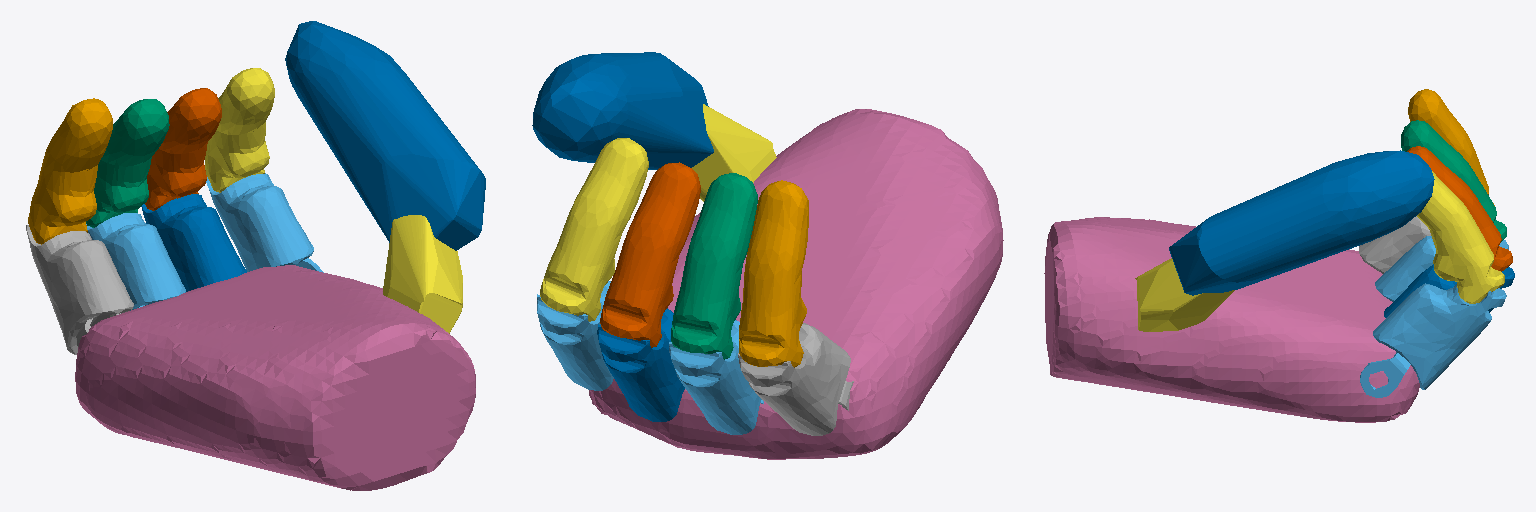
URDF robot description (hand):
<?xml version="1.0"?>
<robot name="hand">
  <joint name="base_link" type="fixed">
    <origin xyz="0. 0. 0." rpy="0. 0. 0."/>
    <parent link="ability_hand"/>
    <child link="connector_plate"/>
  </joint>
  <joint name="connector_plate_joint" type="fixed">
    <origin xyz="0. 0.035 0.02 " rpy="-1.5707964 0. 0. "/>
    <parent link="connector_plate"/>
    <child link="wrist_connector"/>
  </joint>
  <joint name="index_q1" type="revolute">
    <origin xyz="0.0289775 0.0409529 -0.0256247" rpy="2.8641052 0.0198338 -0.1568503"/>
    <parent link="wrist_connector"/>
    <child link="index_L1"/>
    <axis xyz="1. 0. 0."/>
    <limit lower="0.1000074" upper="1.8675023" effort="5." velocity="8.0677775"/>
  </joint>
  <joint name="index_q2" type="revolute">
    <origin xyz="0. 0.0032577 -0.0384727" rpy="0.8080874 0. 0. "/>
    <parent link="index_L1"/>
    <child link="index_L2"/>
    <axis xyz="1. 0. 0."/>
    <limit lower="0." upper="2.2165682" effort="0." velocity="8.0677775"/>
		<mimic joint = "index_q1" multiplier =  "1.05851325" offset = "0"/>
  </joint>
  <joint name="middle_q1" type="revolute">
    <origin xyz="0.0095579 0.0439545 -0.022537 " rpy="2.8685586 -0.0177729 -0.0780471"/>
    <parent link="wrist_connector"/>
    <child link="middle_L1"/>
    <axis xyz="1. 0. 0."/>
    <limit lower="0.1399754" upper="1.868375" effort="5." velocity="8.0677775"/>
  </joint>
  <joint name="middle_q2" type="revolute">
    <origin xyz="0. 0.0032577 -0.0384727" rpy="0.8080874 0. 0. "/>
    <parent link="middle_L1"/>
    <child link="middle_L2"/>
    <axis xyz="1. 0. 0."/>
    <limit lower="0." upper="2.2165682" effort="5." velocity="8.0677775"/>
		<mimic joint = "middle_q1" multiplier =  "1.05851325" offset = "0"/>
  </joint>
  <joint name="palm_fixed" type="fixed">
    <origin xyz="0.024752 0.0264443 -0.0888265" rpy="3.1162112 -0.0908633 -0.0312166"/>
    <parent link="wrist_connector"/>
    <child link="palm"/>
  </joint>
  <joint name="pinky_q1" type="revolute">
    <origin xyz="-0.029837 0.0407557 -0.0308493" rpy="2.863189 -0.0403512 0.0684035"/>
    <parent link="wrist_connector"/>
    <child link="pinky_L1"/>
    <axis xyz="1. 0. 0."/>
    <limit lower="0.1302016" upper="1.6587609" effort="5." velocity="8.0677775"/>
  </joint>
  <joint name="pinky_q2" type="revolute">
    <origin xyz="0. 0.0032577 -0.0384727" rpy="0.8080874 0. 0. "/>
    <parent link="pinky_L1"/>
    <child link="pinky_L2"/>
    <axis xyz="1. 0. 0."/>
    <limit lower="0." upper="2.2165682" effort="5." velocity="8.0677775"/>
		<mimic joint = "pinky_q1" multiplier =  "1.05851325" offset = "0"/>
  </joint>
  <joint name="ring_q1" type="revolute">
    <origin xyz="-0.0106353 0.0434727 -0.0249167" rpy="2.8661923 -0.0540403 0.0041775"/>
    <parent link="wrist_connector"/>
    <child link="ring_L1"/>
    <axis xyz="1. 0. 0."/>
    <limit lower="0.0951204" upper="1.8675023" effort="5." velocity="8.0677775"/>
  </joint>
  <joint name="ring_q2" type="revolute">
    <origin xyz="0. 0.0032577 -0.0384727" rpy="0.8080874 0. 0. "/>
    <parent link="ring_L1"/>
    <child link="ring_L2"/>
    <axis xyz="1. 0. 0."/>
    <limit lower="0." upper="2.2165682" effort="5." velocity="8.0677775"/>
		<mimic joint = "ring_q1" multiplier =  "1.05851325" offset = "0"/>
  </joint>
  <joint name="thumb_q1" type="revolute">
    <origin xyz="0.024752 0.0264443 -0.0888264" rpy="-0.4604883 1.4764616 -0.3040145"/>
    <parent link="wrist_connector"/>
    <child link="thumb_L1"/>
    <axis xyz="1. 0. 0."/>
    <limit lower="0.1596976" upper="1.9198622" effort="5." velocity="17453.2925199"/>
  </joint>
  <joint name="thumb_q2" type="revolute">
    <origin xyz="-0.0147507 0. 0.0278284" rpy="-3.1415927 0. -1.3089969"/>
    <parent link="thumb_L1"/>
    <child link="thumb_L2"/>
    <axis xyz="1. 0. 0."/>
    <limit lower="0.0506145" upper="1.569051" effort="5." velocity="8.0677775"/>
  </joint>
  <link name="ability_hand"/>
  <link name="index_L1">
    <inertial>
      <origin xyz="0. 0. 0." rpy="0. 0. 0."/>
      <mass value="0.0063589"/>
      <inertia ixx="0." ixy="0." ixz="0." iyy="0." iyz="0." izz="0."/>
    </inertial>


    <visual>
      <origin xyz="0. 0.0032577 -0.0384727" rpy="1.5707964 1.4863216 1.5707964"/>
      <geometry>
        <mesh filename="urdf_meshes/index_L1_visuals_index_mesh_1.obj" scale="1. 1. 1."/>
      </geometry>
    </visual>

    <collision>
      <origin xyz="0. 0.0032577 -0.0384727" rpy="1.5707964 1.4863216 1.5707964"/>
      <geometry>
        <mesh filename="urdf_meshes/index_L1_collisions_mesh_0.obj" scale="1. 1. 1."/>
      </geometry>
    </collision>
  </link>
  <link name="connector_plate">
    <inertial>
      <origin xyz="0. 0. 0." rpy="0. 0. 0."/>
      <mass value="0.05"/>
      <inertia ixx="0." ixy="0." ixz="0." iyy="0." iyz="0." izz="0."/>
    </inertial>
  </link>
  <link name="index_L2">
    <inertial>
      <origin xyz="0. 0. 0." rpy="0. 0. 0."/>
      <mass value="0.00645"/>
      <inertia ixx="0." ixy="0." ixz="0." iyy="0." iyz="0." izz="0."/>
    </inertial>
    <visual>
      <origin xyz="0. 0. -0.0091241" rpy="0. 1.5707963 0. "/>
      <geometry>
        <mesh filename="urdf_meshes/index_L2_visuals_index_mesh_2.obj" scale="1. 1. 1."/>
      </geometry>
    </visual>

    <collision>
      <origin xyz="0. 0. -0.0091241" rpy="0. 1.5707963 0. "/>
      <geometry>
        <mesh filename="urdf_meshes/index_L2_collisions_mesh_0.obj" scale="1. 1. 1."/>
      </geometry>
    </collision>
  </link>
  <link name="middle_L1">
    <inertial>
      <origin xyz="0. 0. 0." rpy="0. 0. 0."/>
      <mass value="0.0063589"/>
      <inertia ixx="0." ixy="0." ixz="0." iyy="0." iyz="0." izz="0."/>
    </inertial>

    <visual>
      <origin xyz="0. 0.0032577 -0.0384727" rpy="1.5707964 1.4863216 1.5707964"/>
      <geometry>
        <mesh filename="urdf_meshes/index_L1_visuals_index_mesh_1.obj" scale="1. 1. 1."/>
      </geometry>
    </visual>
    
    <collision>
      <origin xyz="0. 0.0032577 -0.0384727" rpy="1.5707964 1.4863216 1.5707964"/>
      <geometry>
        <mesh filename="urdf_meshes/index_L1_collisions_mesh_0.obj" scale="1. 1. 1."/>
      </geometry>
    </collision>
  </link>
  <link name="middle_L2">
    <inertial>
      <origin xyz="0. 0. 0." rpy="0. 0. 0."/>
      <mass value="0.00645"/>
      <inertia ixx="0." ixy="0." ixz="0." iyy="0." iyz="0." izz="0."/>
    </inertial>

    <visual>
      <origin xyz="0. 0. -0.0091241" rpy="0. 1.5707963 0. "/>
      <geometry>
        <mesh filename="urdf_meshes/index_L2_visuals_index_mesh_2.obj" scale="1. 1. 1."/>
      </geometry>
    </visual>

    <collision>
      <origin xyz="0. 0. -0.0091241" rpy="0. 1.5707963 0. "/>
      <geometry>
        <mesh filename="urdf_meshes/index_L2_collisions_mesh_0.obj" scale="1. 1. 1."/>
      </geometry>
    </collision>
  </link>

  <link name="palm">
    <inertial>
      <origin xyz="0. 0. 0." rpy="0. 0. 0."/>
      <mass value="0.000001"/>
      <inertia ixx="0." ixy="0." ixz="0." iyy="0." iyz="0." izz="0."/>
    </inertial>

    <visual>
      <origin xyz="0. -0. 0." rpy="-0. 0.0578587 -0. "/>
      <geometry>
        <mesh filename="urdf_meshes/palm_collisions_mesh_0.obj" scale="1. 1. 1."/>
      </geometry>
    </visual>

    <collision>
      <origin xyz="0. -0. 0." rpy="-0. 0.0578587 -0. "/>
      <geometry>
        <mesh filename="urdf_meshes/palm_collisions_mesh_0.obj" scale="1. 1. 1."/>
      </geometry>
    </collision>
  </link>

  <link name="pinky_L1">
    <inertial>
      <origin xyz="0. 0. 0." rpy="0. 0. 0."/>
      <mass value="0.0063589"/>
      <inertia ixx="0." ixy="0." ixz="0." iyy="0." iyz="0." izz="0."/>
    </inertial>

    <visual>
      <origin xyz="0. 0.0032577 -0.0384727" rpy="1.5707964 1.4863216 1.5707964"/>
      <geometry>
        <mesh filename="urdf_meshes/index_L1_visuals_index_mesh_1.obj" scale="1. 1. 1."/>
      </geometry>
    </visual>

    <collision>
      <origin xyz="0. 0.0032577 -0.0384727" rpy="1.5707964 1.4863216 1.5707964"/>
      <geometry>
        <mesh filename="urdf_meshes/index_L1_collisions_mesh_0.obj" scale="1. 1. 1."/>
      </geometry>
    </collision>
  </link>
  <link name="pinky_L2">
    <inertial>
      <origin xyz="0. 0. 0." rpy="0. 0. 0."/>
      <mass value="0.00645"/>
      <inertia ixx="0." ixy="0." ixz="0." iyy="0." iyz="0." izz="0."/>
    </inertial>

    <visual>
      <origin xyz="0. 0. -0.0091241" rpy="0. 1.5707963 0. "/>
      <geometry>
        <mesh filename="urdf_meshes/index_L2_visuals_index_mesh_2.obj" scale="1. 1. 1."/>
      </geometry>
    </visual>

    <collision>
      <origin xyz="0. 0. -0.0091241" rpy="0. 1.5707963 0. "/>
      <geometry>
        <mesh filename="urdf_meshes/index_L2_collisions_mesh_0.obj" scale="1. 1. 1."/>
      </geometry>
    </collision>
  </link>
  <link name="ring_L1">
    <inertial>
      <origin xyz="0. 0. 0." rpy="0. 0. 0."/>
      <mass value="0.0063589"/>
      <inertia ixx="0." ixy="0." ixz="0." iyy="0." iyz="0." izz="0."/>
    </inertial>

    <visual>
      <origin xyz="0. 0.0032577 -0.0384727" rpy="1.5707964 1.4863216 1.5707964"/>
      <geometry>
        <mesh filename="urdf_meshes/index_L1_visuals_index_mesh_1.obj" scale="1. 1. 1."/>
      </geometry>
    </visual>

    <collision>
      <origin xyz="0. 0.0032577 -0.0384727" rpy="1.5707964 1.4863216 1.5707964"/>
      <geometry>
        <mesh filename="urdf_meshes/index_L1_collisions_mesh_0.obj" scale="1. 1. 1."/>
      </geometry>
    </collision>
  </link>
  <link name="ring_L2">
    <inertial>
      <origin xyz="0. 0. 0." rpy="0. 0. 0."/>
      <mass value="0.00645"/>
      <inertia ixx="0." ixy="0." ixz="0." iyy="0." iyz="0." izz="0."/>
    </inertial>

    <visual>
      <origin xyz="0. 0. -0.0091241" rpy="0. 1.5707963 0. "/>
      <geometry>
        <mesh filename="urdf_meshes/index_L2_visuals_index_mesh_2.obj" scale="1. 1. 1."/>
      </geometry>
    </visual>

    <collision>
      <origin xyz="0. 0. -0.0091241" rpy="0. 1.5707963 0. "/>
      <geometry>
        <mesh filename="urdf_meshes/index_L2_collisions_mesh_0.obj" scale="1. 1. 1."/>
      </geometry>
    </collision>
  </link>
  <link name="thumb_L1">
    <inertial>
      <origin xyz="0. 0. 0." rpy="0. 0. 0."/>
      <mass value="0.0026834"/>
      <inertia ixx="0." ixy="0." ixz="0." iyy="0." iyz="0." izz="0."/>
    </inertial>

    <visual>
      <origin xyz="-0.0147507 0. 0.0278284" rpy="1.8325957 -1.5707964 0. "/>
      <geometry>
        <mesh filename="urdf_meshes/thumb_mesh_1.obj" scale="1. 1. 1."/>
      </geometry>
    </visual>


    <collision>
      
      <origin xyz="-0.0147507 0. 0.0278284" rpy="1.8325957 -1.5707964 0. "/>
      <geometry>
        <mesh filename="urdf_meshes/thumb_L1_collision.obj" scale="1. 1. 1."/>
      </geometry>

    </collision>
  </link>

  
  <link name="thumb_L2">
    <inertial>
      <origin xyz="0. 0. 0." rpy="0. 0. 0."/>
      <mass value="0.0055"/>
      <inertia ixx="0." ixy="0." ixz="0." iyy="0." iyz="0." izz="0."/>
    </inertial>

    <visual>
      <origin xyz="0.0039348 0.0233402 -0.0651867" rpy="-1.5707957 1.2269664 1.5707964"/>
      <geometry>
        <mesh filename="urdf_meshes/thumb_mesh_2.obj" scale="1. 1. 1."/>
      </geometry>
    </visual>
    
    <collision>
      <origin xyz="0.0039348 0.0233402 -0.0651867" rpy="-1.5707957 1.2269664 1.5707964"/>
      <geometry>
        <mesh filename="urdf_meshes/thumb_L2_collisions_mesh_0.obj" scale="1. 1. 1."/>
      </geometry>
    </collision>
  </link>

  <link name = "index_tip">
  </link>
  <joint name="index_tip_joint" type="fixed">
    <origin xyz="0. -0.015 -0.035" rpy="0. 0. 0."/>
    <parent link="index_L2"/>
    <child link="index_tip"/>
  </joint>
  <link name="middle_tip">
  </link>
  <joint name="middle_tip_joint" type="fixed">
    <origin xyz="0. -0.015 -0.035" rpy="0. 0. 0."/>
    <parent link="middle_L2"/>
    <child link="middle_tip"/>
  </joint>
  <link name="pinky_tip">   
  </link>
  <joint name="pinky_tip_joint" type="fixed">
    <origin xyz="0. -0.015 -0.035" rpy="0. 0. 0."/>
    <parent link="pinky_L2"/>   
    <child link="pinky_tip"/>
  </joint>
  <link name="ring_tip">
  </link>
  <joint name="ring_tip_joint" type="fixed">
    <origin xyz="0. -0.015 -0.035" rpy="0. 0. 0."/>
    <parent link="ring_L2"/>
    <child link="ring_tip"/>
  </joint>
  <link name="thumb_tip">
  </link>
  <joint name="thumb_tip_joint" type="fixed">
    <origin xyz="0.0 0.028 -0.057" rpy="0. 0. 0."/>
    <parent link="thumb_L2"/>
    <child link="thumb_tip"/>
  </joint>
  
  <link name="wrist_connector">
    <inertial>
      <origin xyz="0. 0. 0." rpy="0. 0. 0."/>
      <mass value="0.4"/>
      <inertia ixx="0." ixy="0." ixz="0." iyy="0." iyz="0." izz="0."/>
    </inertial>
  </link>
</robot>

--- What the picture shows (computed from the rendered views, not written in the file) ---
The picture shows the robot from 3 angles, left to right: view 1: azimuth 30°, elevation 25°; view 2: azimuth 150°, elevation 25°; view 3: azimuth 270°, elevation 25°; orthographic projection.
Robot: hand — 19 links, 18 joints (10 revolute, 8 fixed); root link ability_hand; default pose: joints at zero except 6 at the middle of their limits (index_q1 = 0.9838, index_q2 = 1.04, middle_q1 = 1, middle_q2 = 1.06, pinky_q1 = 0.8945, pinky_q2 = 0.9468).
Visible links, largest first — view 1: palm, thumb_L2, pinky_L2, pinky_L1, index_L1, thumb_L1, index_L2, ring_L2, middle_L1, middle_L2, ring_L1; view 2: palm, thumb_L2, pinky_L2, index_L2, middle_L2, ring_L2, pinky_L1, middle_L1, ring_L1, index_L1, thumb_L1; view 3: palm, thumb_L2, index_L1, index_L2, thumb_L1, ring_L2, pinky_L2, middle_L2, ring_L1, pinky_L1, middle_L1.
Boxes of the visible links, <box> form: palm: <box>75,265,475,490</box>; thumb_L2: <box>285,21,485,250</box>; pinky_L2: <box>28,98,112,244</box>; pinky_L1: <box>26,225,133,354</box>; index_L1: <box>206,173,323,272</box>; thumb_L1: <box>383,215,462,333</box>; index_L2: <box>205,68,274,192</box>; ring_L2: <box>86,99,169,227</box>; middle_L1: <box>141,194,246,291</box>; middle_L2: <box>145,88,221,210</box>; ring_L1: <box>86,213,185,310</box>; palm: <box>589,109,1003,459</box>; thumb_L2: <box>532,52,713,169</box>; pinky_L2: <box>739,180,808,367</box>; index_L2: <box>540,138,648,321</box>; middle_L2: <box>600,162,700,347</box>; ring_L2: <box>671,173,757,359</box>; pinky_L1: <box>738,323,853,435</box>; middle_L1: <box>597,308,684,421</box>; ring_L1: <box>669,320,763,434</box>; index_L1: <box>537,281,613,390</box>; thumb_L1: <box>692,104,776,201</box>; palm: <box>1044,217,1419,422</box>; thumb_L2: <box>1169,150,1434,295</box>; index_L1: <box>1360,283,1506,397</box>; index_L2: <box>1417,171,1504,303</box>; thumb_L1: <box>1135,258,1234,331</box>; ring_L2: <box>1401,120,1506,241</box>; pinky_L2: <box>1408,89,1494,205</box>; middle_L2: <box>1407,146,1512,271</box>; ring_L1: <box>1375,236,1508,301</box>; pinky_L1: <box>1359,216,1430,273</box>; middle_L1: <box>1384,264,1514,317</box>.
Size in the robot's own frame: 0.099 by 0.1364 by 0.0952 metres.
11 mesh visuals loaded from 5 distinct referenced files (5 OBJ).